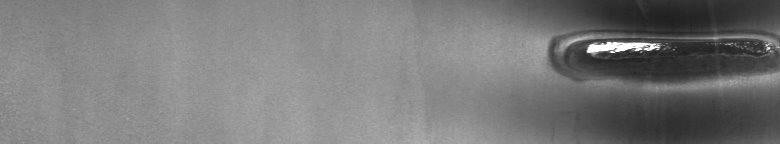ke: (540, 4, 776, 104)
